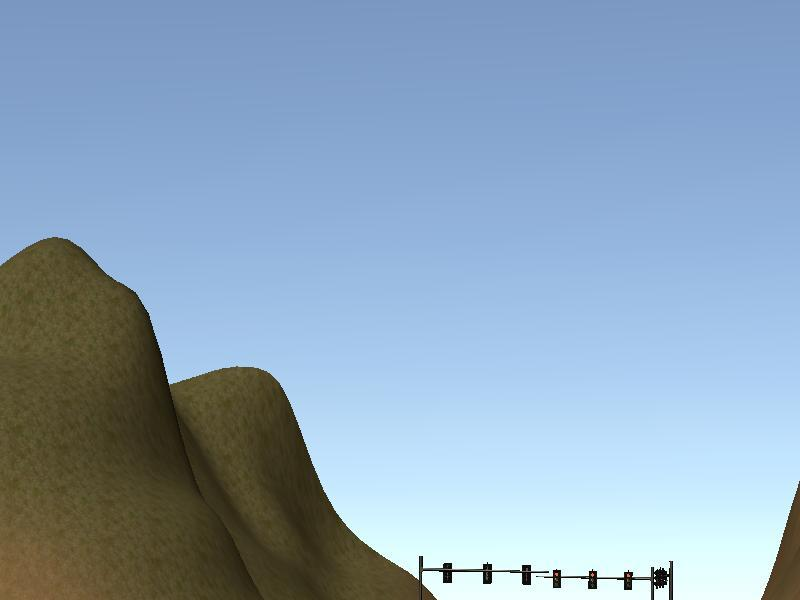Red: (587, 569, 597, 591), (551, 568, 561, 588), (623, 570, 632, 591)
